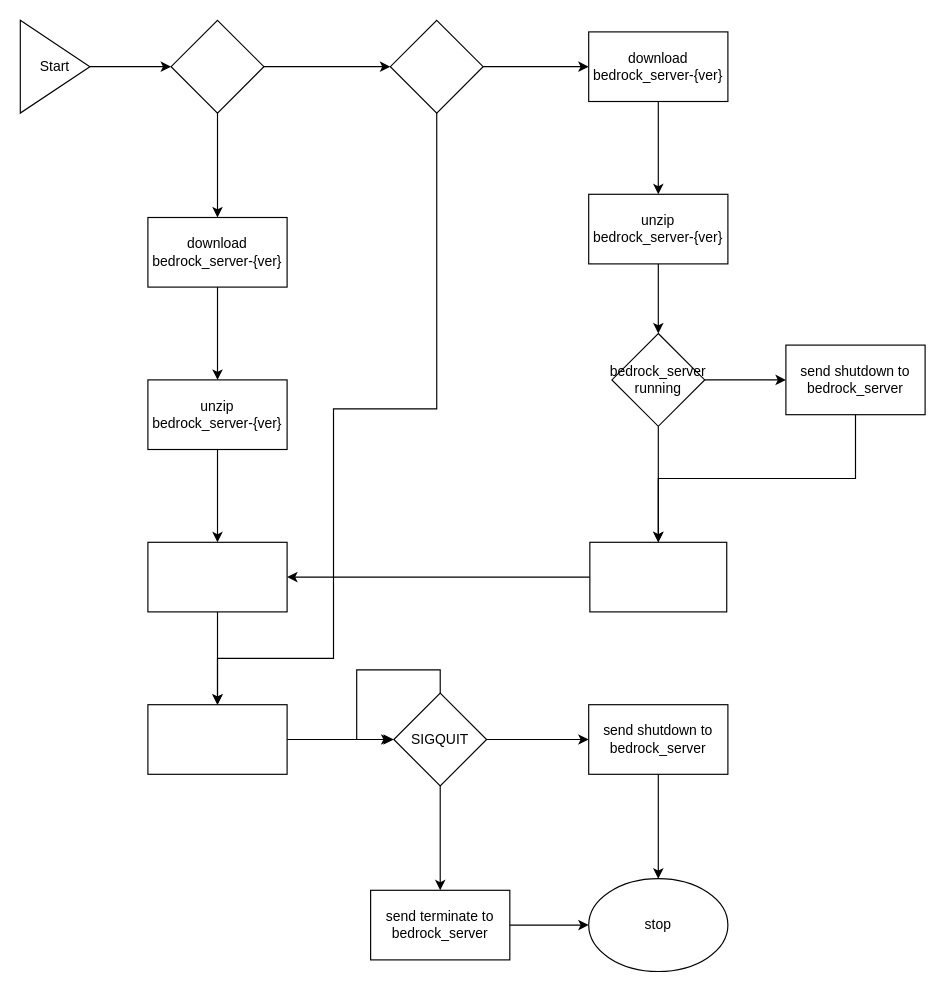
The diagram is 945 pixels wide and 992 high, and some of its shapes have lost their labels. The centre of each missing label's shape, as x and y in pixels:
"bedrock_server available" goes at [217,66].
"remove bedrock_server symlink" goes at [658,576].
"start bedrock_server" goes at [217,739].
"symlink bedrock_server-{ver} to bedrock_server" goes at [217,576].
"update available" goes at [436,66].
